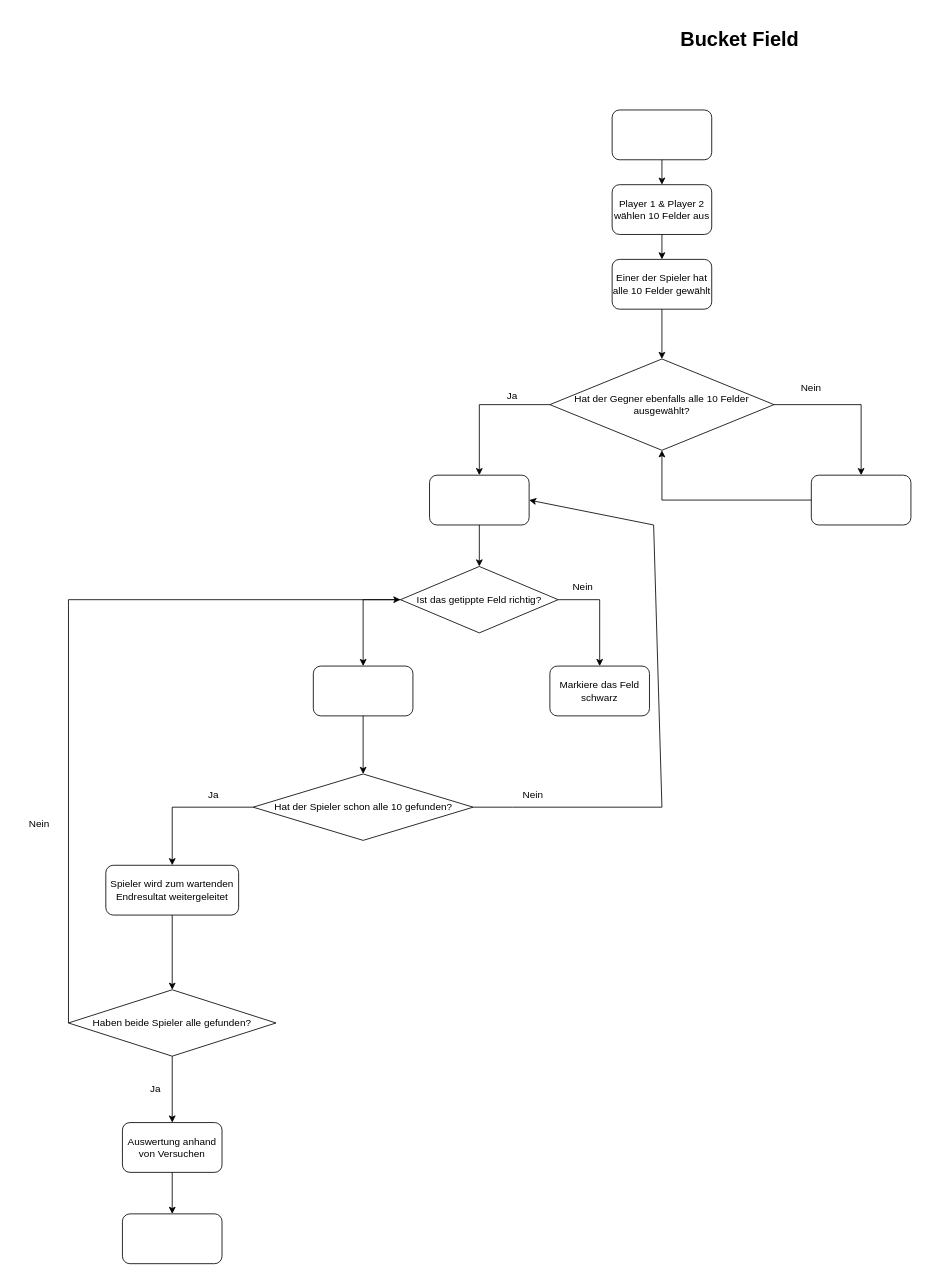
Image size: 925x1278. Some labels were removed from this diagram. Each missing label, with the centre of its shape:
"Der Spieler mit den meisten Versuchen hat verloren" goes at (172,1238).
"Markiere das Feld goldig" goes at (362,690).
"Spieler versuchen die 10 Felder zu erraten" goes at (479,499).
"Spieler werden gegenseitig benachrichtigt" goes at (860,499).
"Start Game" goes at (661,134).
